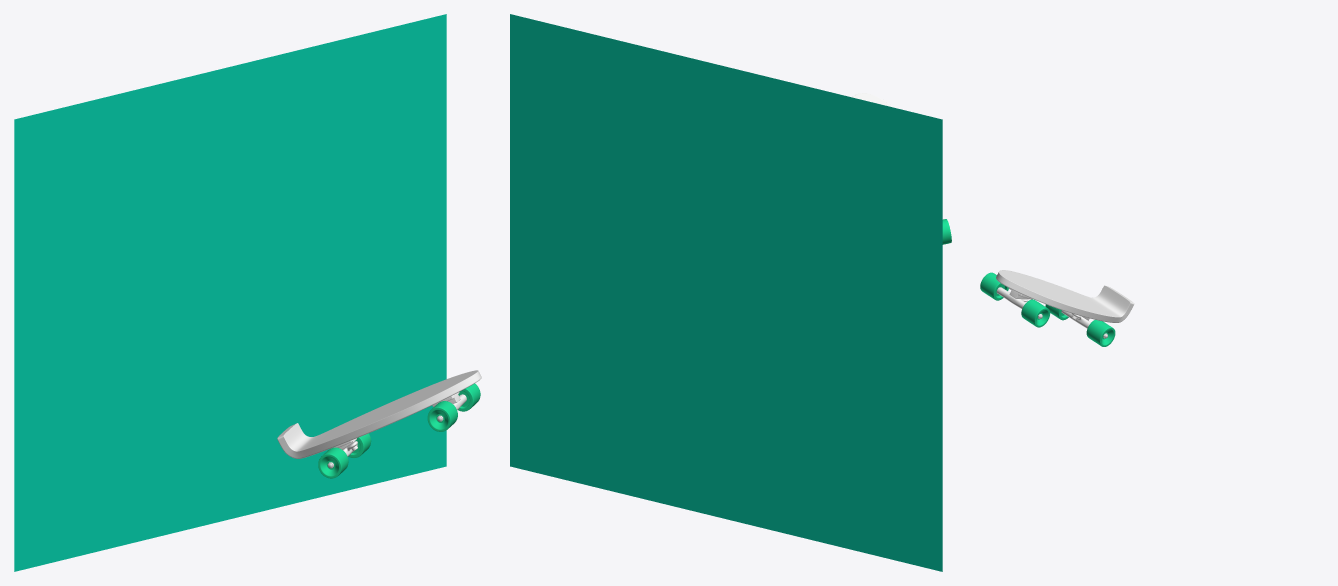
The model's file is skateboard.glb.
3 renders of one model, left to right at view 1: azimuth 30°, elevation 25°; view 2: azimuth 150°, elevation 25°; view 3: azimuth 270°, elevation 25°, orthographic. The views are drawn at different scales.
Visible parts, largest first — view 1: Plane.002, Plane, Cylinder.001; view 2: Plane.002; view 3: Plane, Cylinder.001, Cube.
Part boxes in pixels (x1,y1,x2,y2): Plane.002: [14, 14, 446, 571]; Plane: [277, 370, 481, 458]; Cylinder.001: [318, 383, 480, 478]; Plane.002: [510, 14, 942, 571]; Plane: [996, 270, 1134, 322]; Cylinder.001: [980, 272, 1115, 346]; Cube: [996, 287, 1090, 328].
Size of the model in its own units: 4.71 by 4.71 by 3.85.
